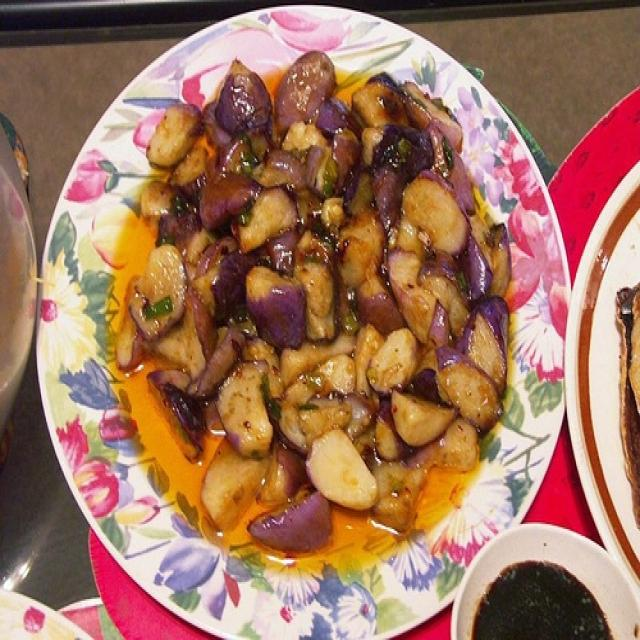鸡蛋料理: (59, 31, 562, 597)
